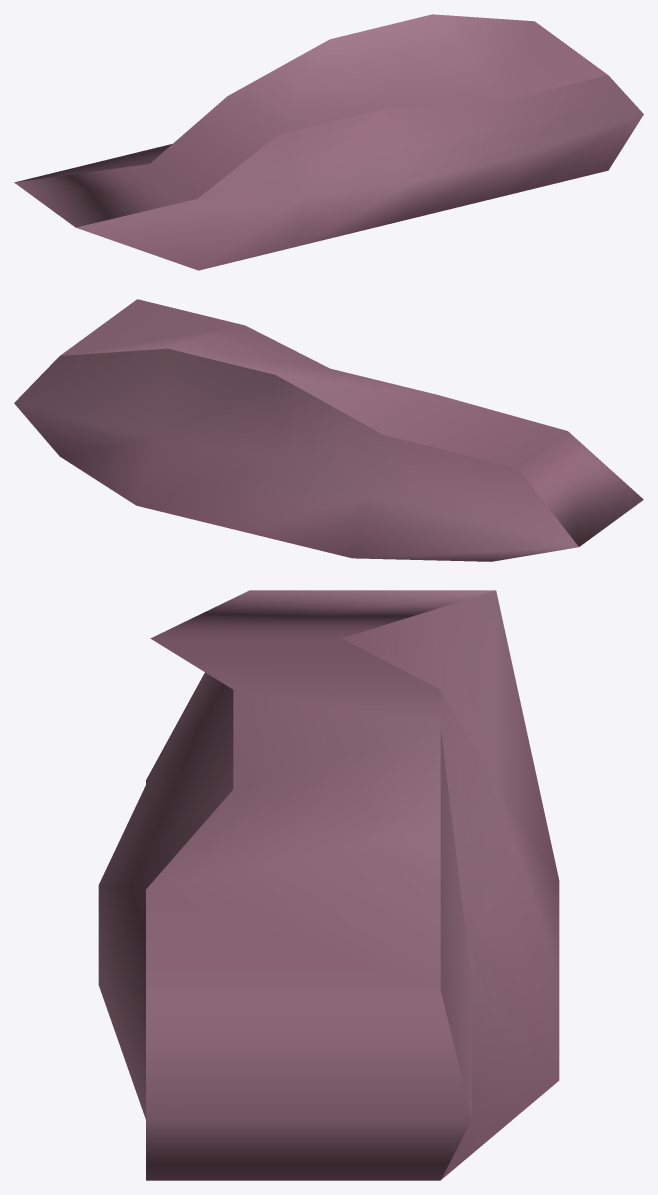
File: rotsformatie_3.fbx
The picture shows the model from 3 angles, top to bottom: view 1: azimuth 30°, elevation 25°; view 2: azimuth 150°, elevation 25°; view 3: azimuth 270°, elevation 25°; orthographic projection. The views are drawn at different scales.
Parts seen in each view (by area): view 1: rotsformatie_3; view 2: rotsformatie_3; view 3: rotsformatie_3.
Part boxes in pixels (x1,y1,x2,y2): rotsformatie_3: [14, 14, 643, 270]; rotsformatie_3: [14, 299, 643, 561]; rotsformatie_3: [98, 590, 559, 1180].
Bounding box in the file's own units: 114 × 25.64 × 42.01.
Materials: 1 (1 with a texture image).
